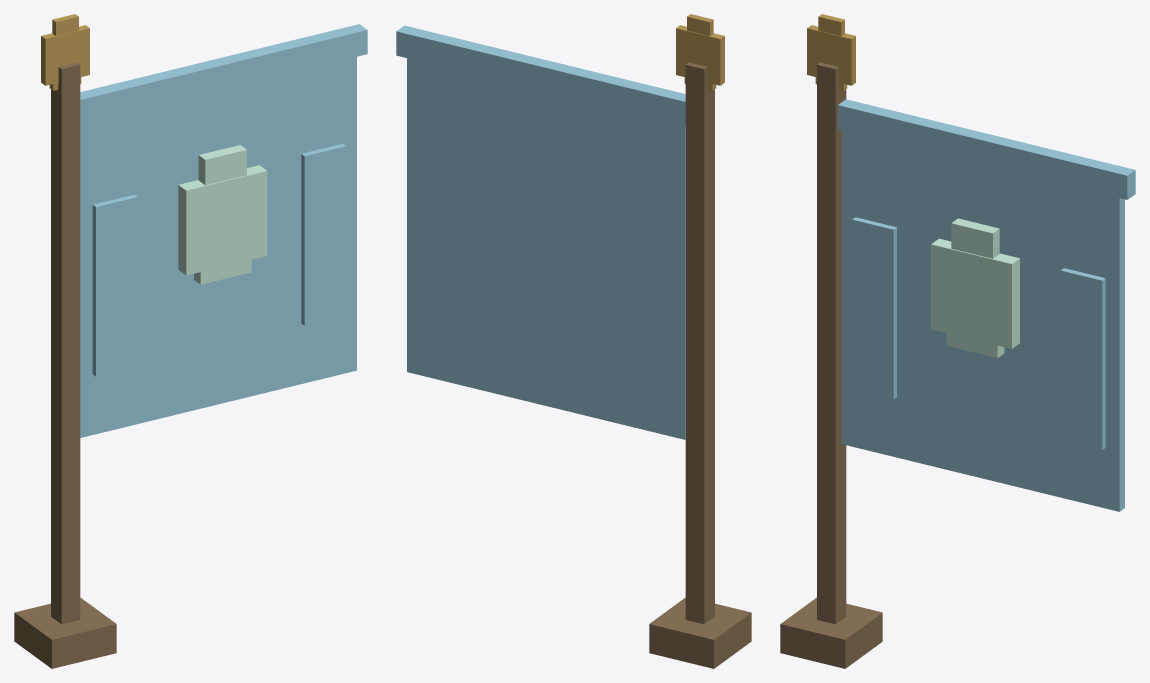
Rendered from cosmetic_banner_bay_streamer.glb.
3 renders of one model, left to right at view 1: azimuth 30°, elevation 25°; view 2: azimuth 150°, elevation 25°; view 3: azimuth 330°, elevation 25°, orthographic.
Visible parts, largest first — view 1: CosmeticArt_cloth, CosmeticArt_pole, CosmeticArt_crest, CosmeticArt_finial; view 2: CosmeticArt_cloth, CosmeticArt_pole, CosmeticArt_finial; view 3: CosmeticArt_cloth, CosmeticArt_pole, CosmeticArt_crest, CosmeticArt_finial.
Part boxes in pixels (bbox=[...]): CosmeticArt_cloth: bbox=[80, 24, 367, 437]; CosmeticArt_pole: bbox=[14, 62, 116, 668]; CosmeticArt_crest: bbox=[178, 145, 267, 284]; CosmeticArt_finial: bbox=[41, 14, 89, 90]; CosmeticArt_cloth: bbox=[396, 25, 685, 439]; CosmeticArt_pole: bbox=[649, 62, 751, 668]; CosmeticArt_finial: bbox=[676, 14, 724, 90]; CosmeticArt_cloth: bbox=[838, 99, 1135, 511]; CosmeticArt_pole: bbox=[780, 62, 882, 668]; CosmeticArt_crest: bbox=[931, 218, 1019, 357]; CosmeticArt_finial: bbox=[807, 14, 855, 90].
Size of the model in its own units: 1.43 by 2.6 by 0.28.
